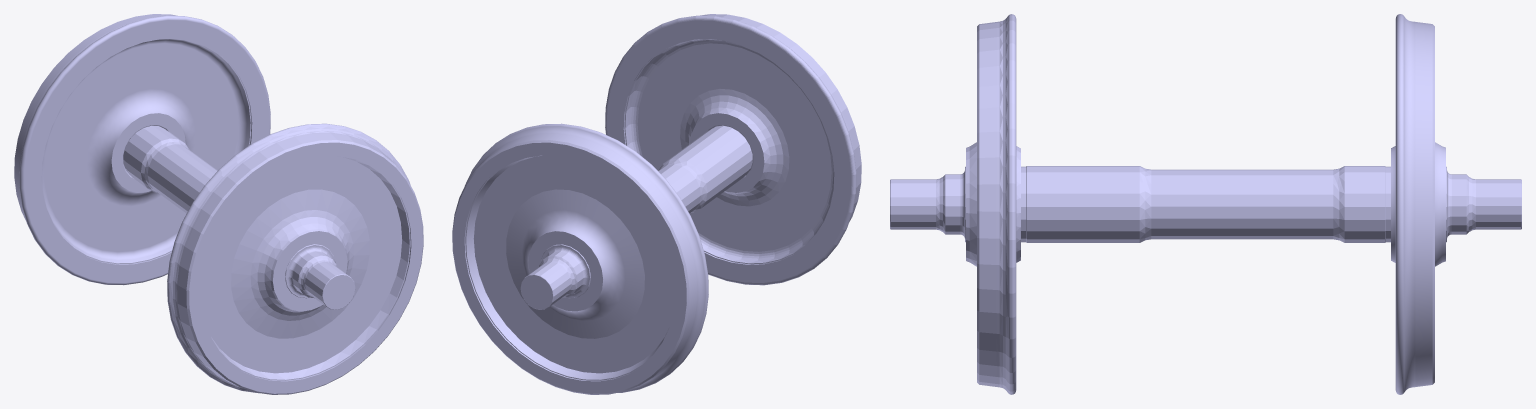
3 views of the same model, side by side, from view 1: azimuth 30°, elevation 25°; view 2: azimuth 150°, elevation 25°; view 3: azimuth 270°, elevation 25° (orthographic). The views are drawn at different scales.
Parts seen in each view (by area): view 1: 零件几何体; view 2: 零件几何体; view 3: 零件几何体.
Boxes of the visible parts, bbox=[...] form: 零件几何体: bbox=[14, 14, 423, 394]; 零件几何体: bbox=[452, 14, 861, 394]; 零件几何体: bbox=[890, 14, 1521, 394].
Size of the model in its own units: 53.32 by 53.37 by 88.5.
